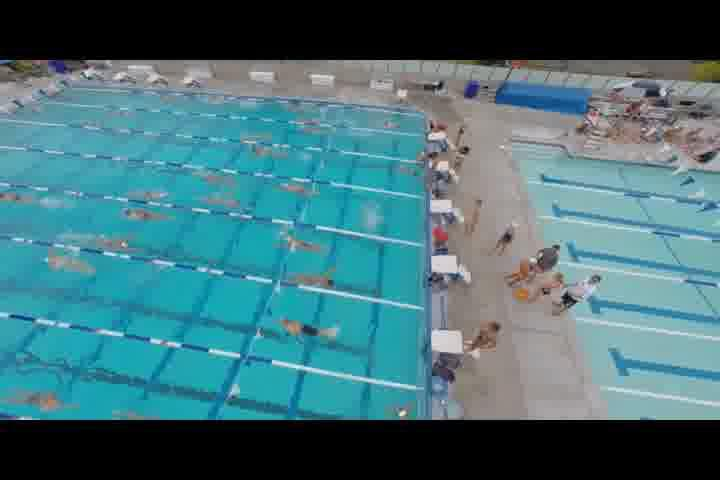human: (278, 318, 337, 338)
